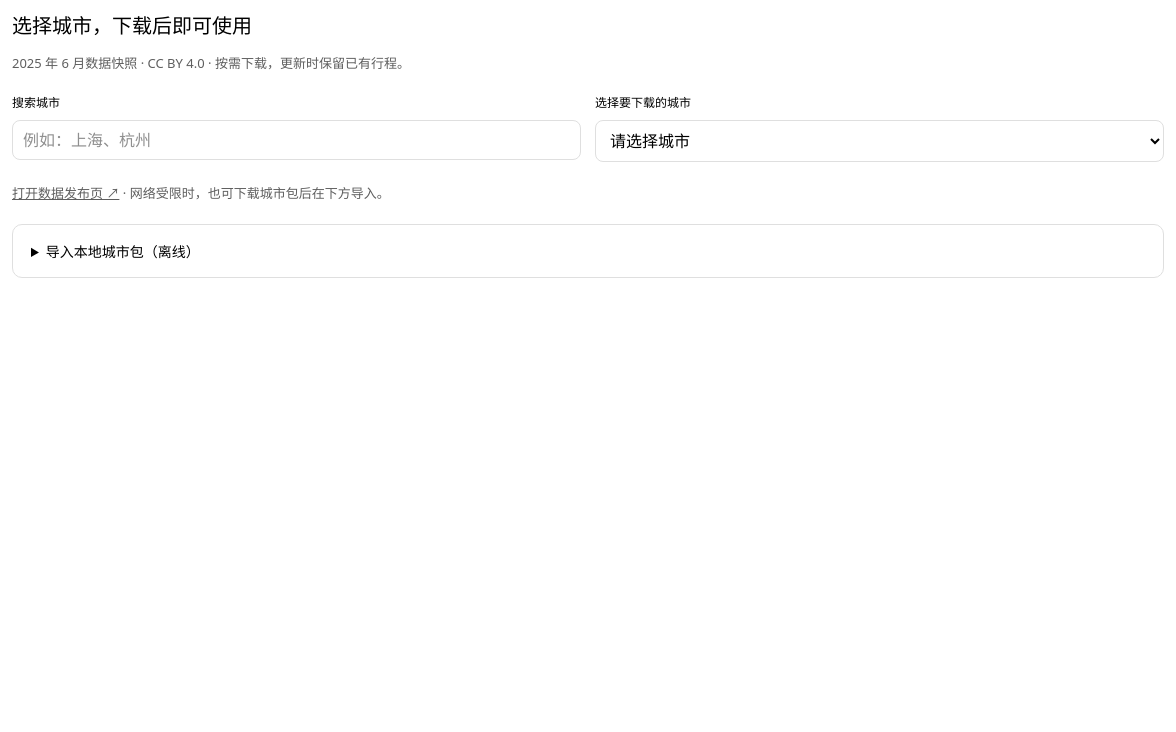
downloads a chosen city, retries failure and refreshes installed data once
The image size is (1176, 732).
Select "上海" in the dropdown labelled "选择要下载的城市" at (880, 141), box [595,120,1164,162]
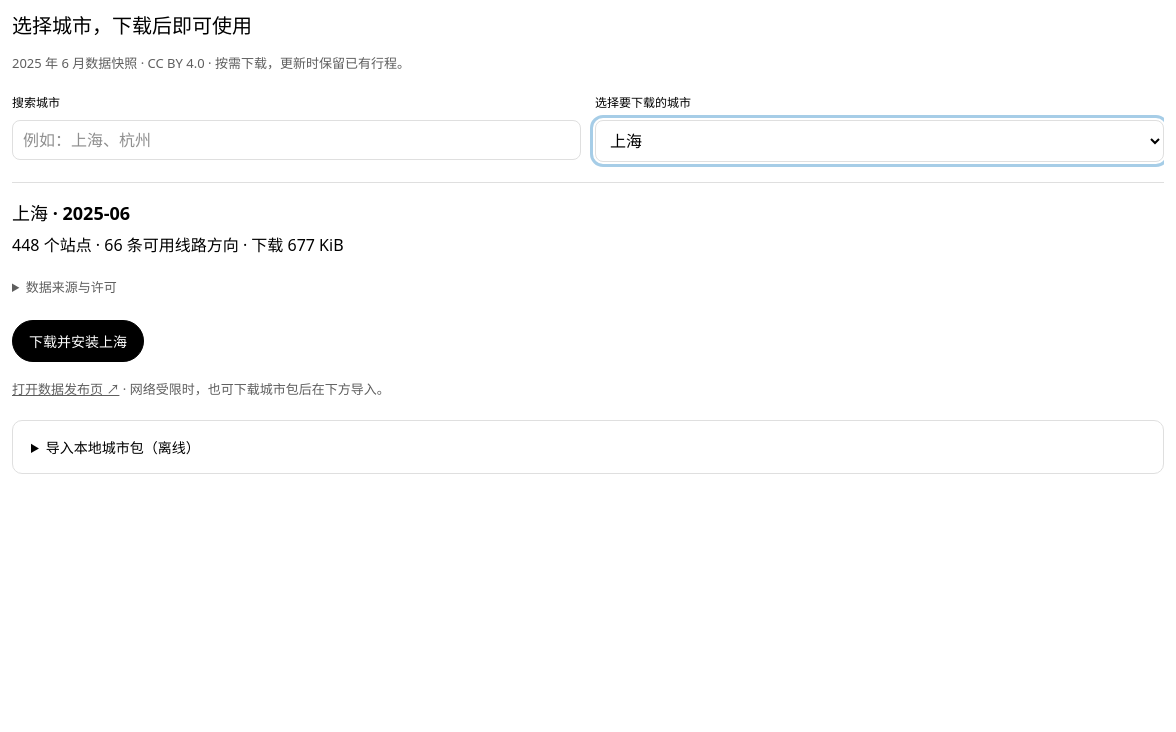
Click the button "下载并安装上海" at (78, 341), box [12,320,144,362]
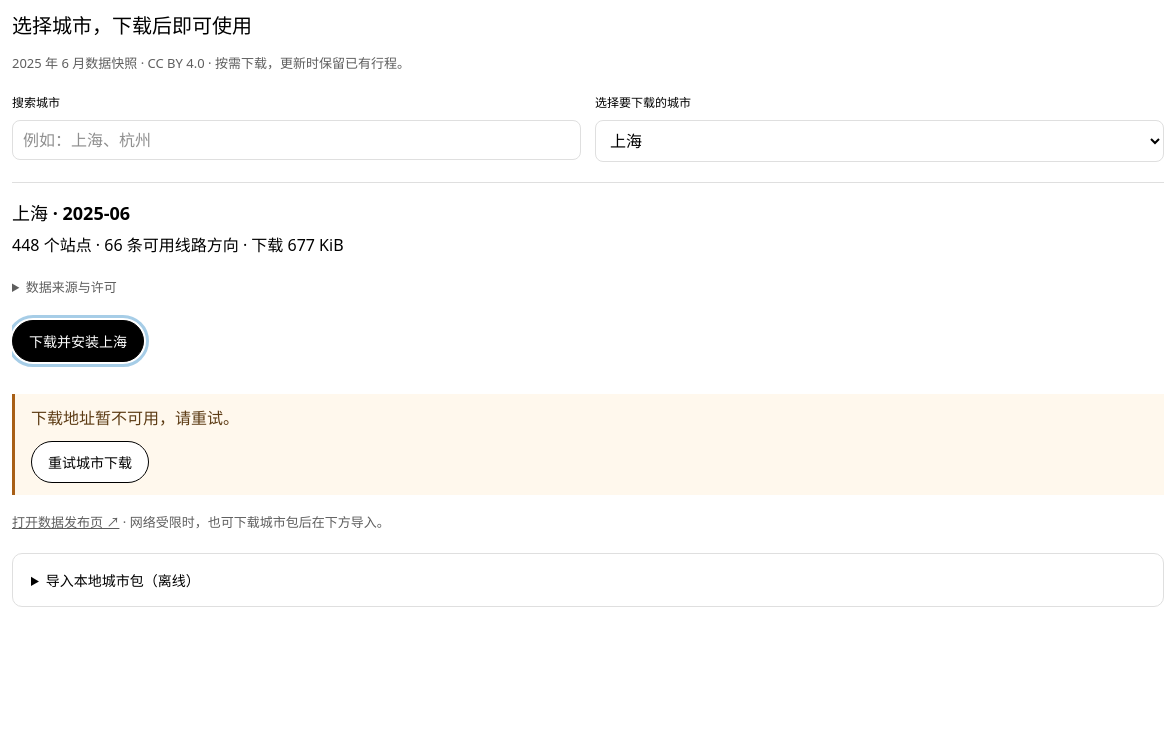
Expected: the text "下载地址暂不可用，请重试。" is shown, [31,407,239,429]
Click the button "重试城市下载" at (90, 462), box [31,441,149,483]
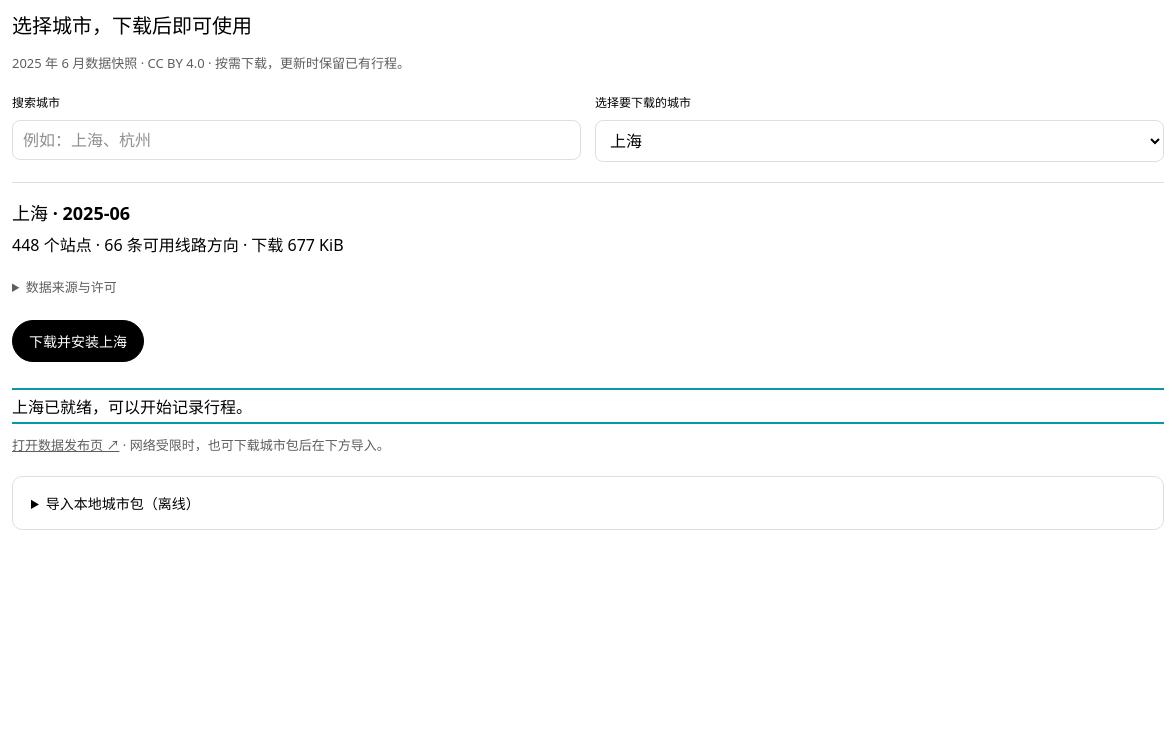
Expected: the text "上海已就绪，可以开始记录行程。" is shown, [12,396,252,418]
